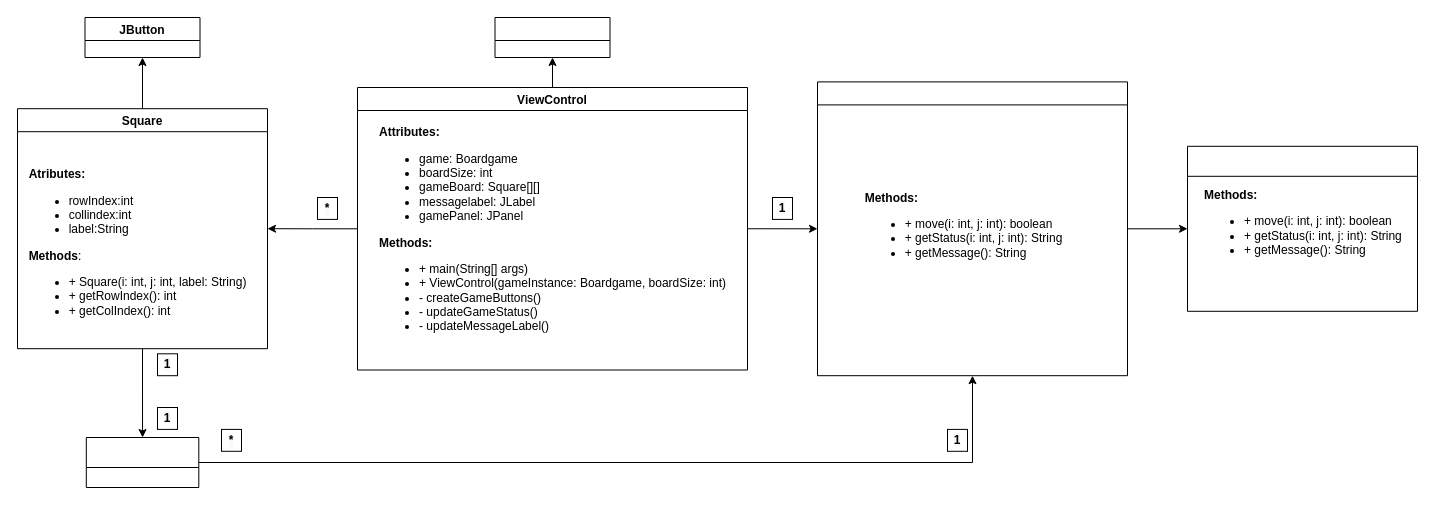
Image size: 1435x505. Some labels were removed from this diagram. Here are the shapes that lost their labels. From the top down, the box of each, then its label:
(494, 16, 610, 58): JFrame
(816, 81, 1128, 376): NewMockGame
(1186, 145, 1418, 311): «interface» Boardgame
(85, 436, 199, 488): Action Listener
